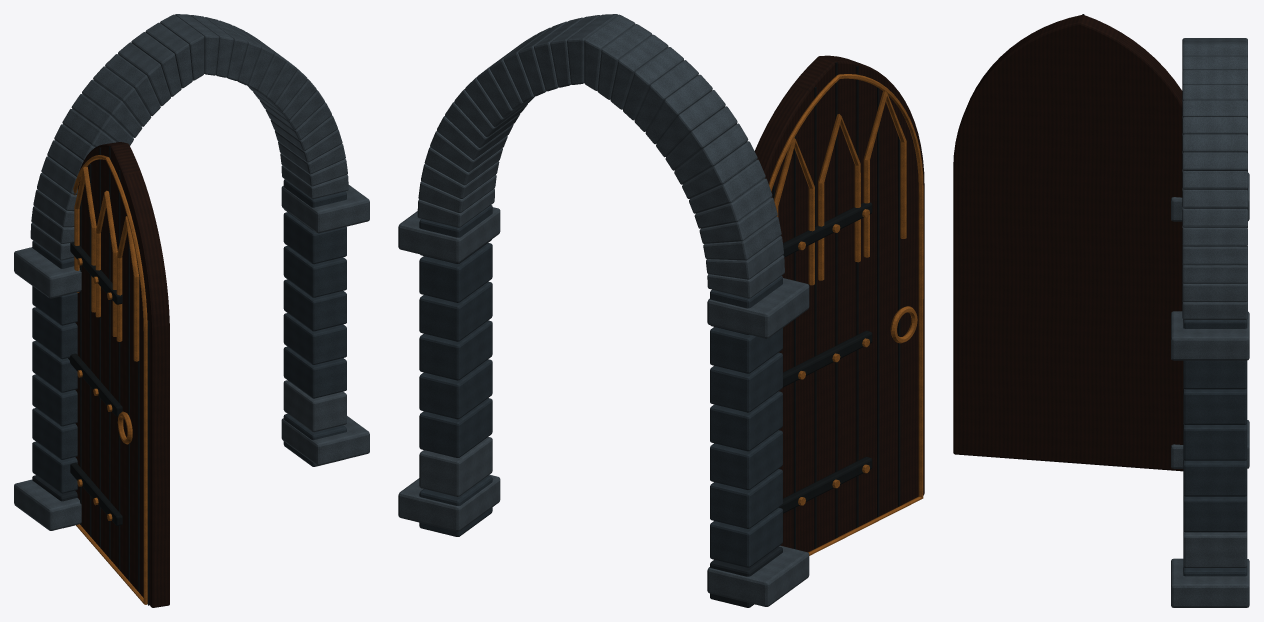
File: door_close.fbx
3 views of the same model, side by side, from view 1: azimuth 30°, elevation 25°; view 2: azimuth 150°, elevation 25°; view 3: azimuth 270°, elevation 25° (orthographic). The views are drawn at different scales.
Parts seen in each view (by area): view 1: door_standard_frame, door_standard_leaf; view 2: door_standard_frame, door_standard_leaf; view 3: door_standard_leaf, door_standard_frame.
Boxes of the visible parts, x1,y1,x2,y2 form: door_standard_frame: (14, 14, 369, 530); door_standard_leaf: (68, 142, 169, 607); door_standard_frame: (398, 14, 809, 607); door_standard_leaf: (754, 55, 924, 555); door_standard_leaf: (953, 14, 1183, 471); door_standard_frame: (1171, 38, 1249, 607).
Size of the model in its own units: 245 by 328 by 180.
Materials: 6 (6 with a texture image).
